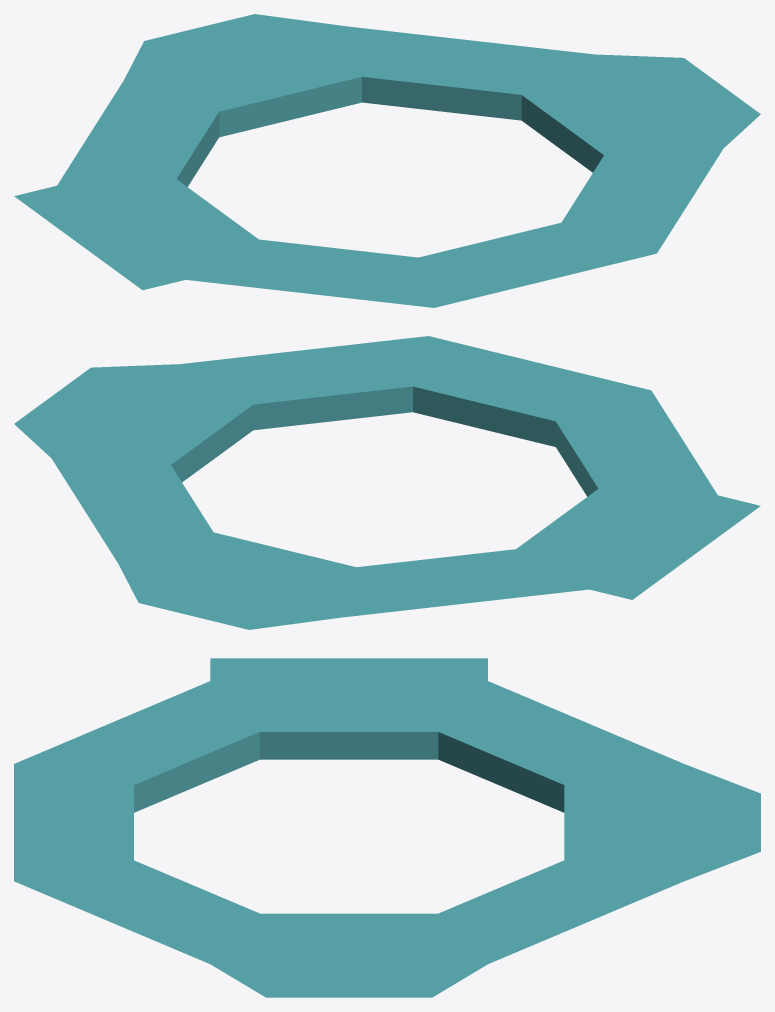
File: Floor.fbx
3 views of the same model, one above another, from view 1: azimuth 30°, elevation 25°; view 2: azimuth 150°, elevation 25°; view 3: azimuth 270°, elevation 25° (orthographic). The views are drawn at different scales.
Visible parts, largest first — view 1: polySurface332; view 2: polySurface332; view 3: polySurface332.
Part boxes in pixels (x1,y1,x2,y2): polySurface332: [14, 14, 760, 307]; polySurface332: [14, 336, 760, 629]; polySurface332: [14, 658, 760, 997].
Bounding box in the file's own units: 2005 × 76.64 × 1865.
